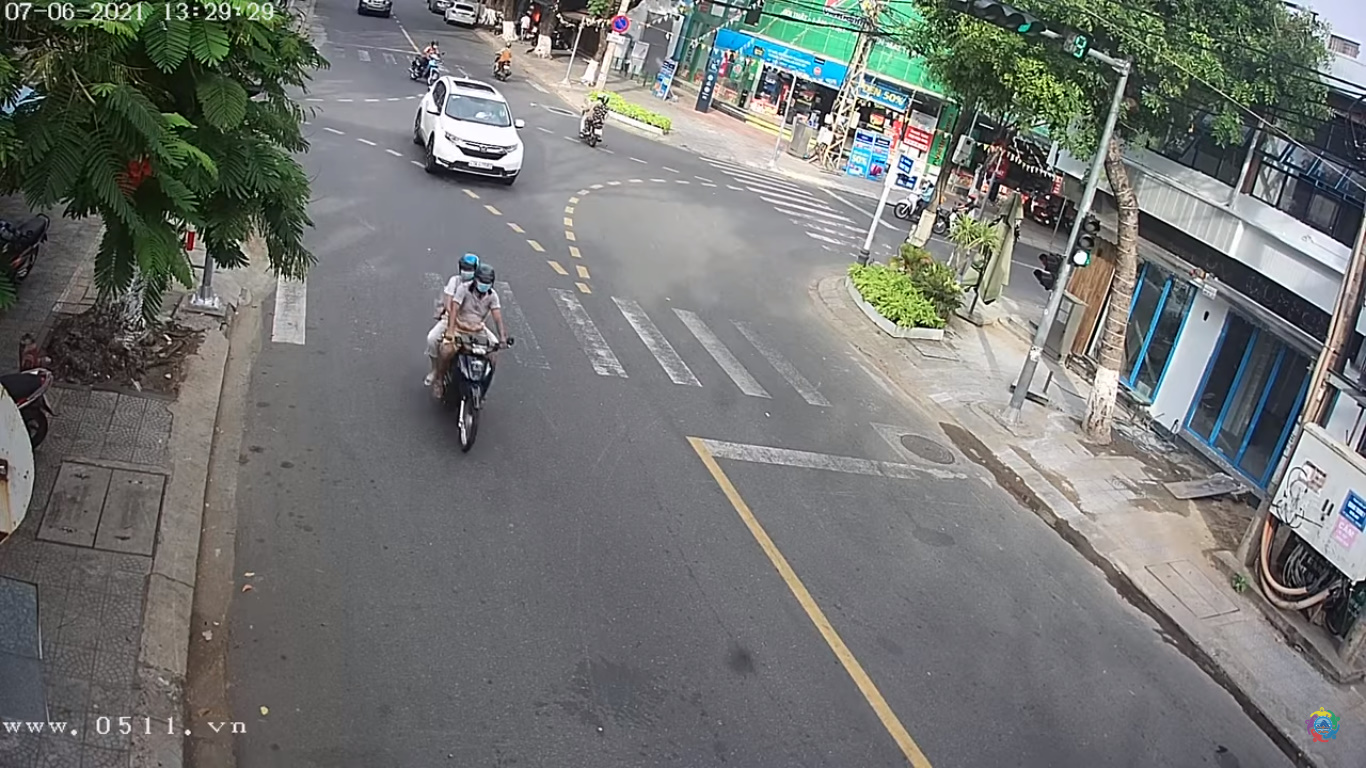car: (412, 76, 529, 184)
motorbike: (423, 256, 510, 453)
